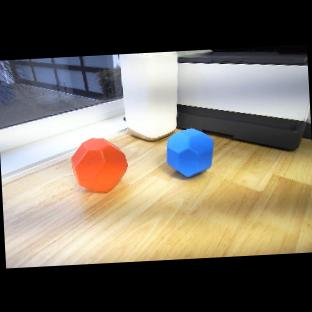V5_BLUE: (163, 125, 216, 178)
V5_RED: (70, 134, 129, 195)
